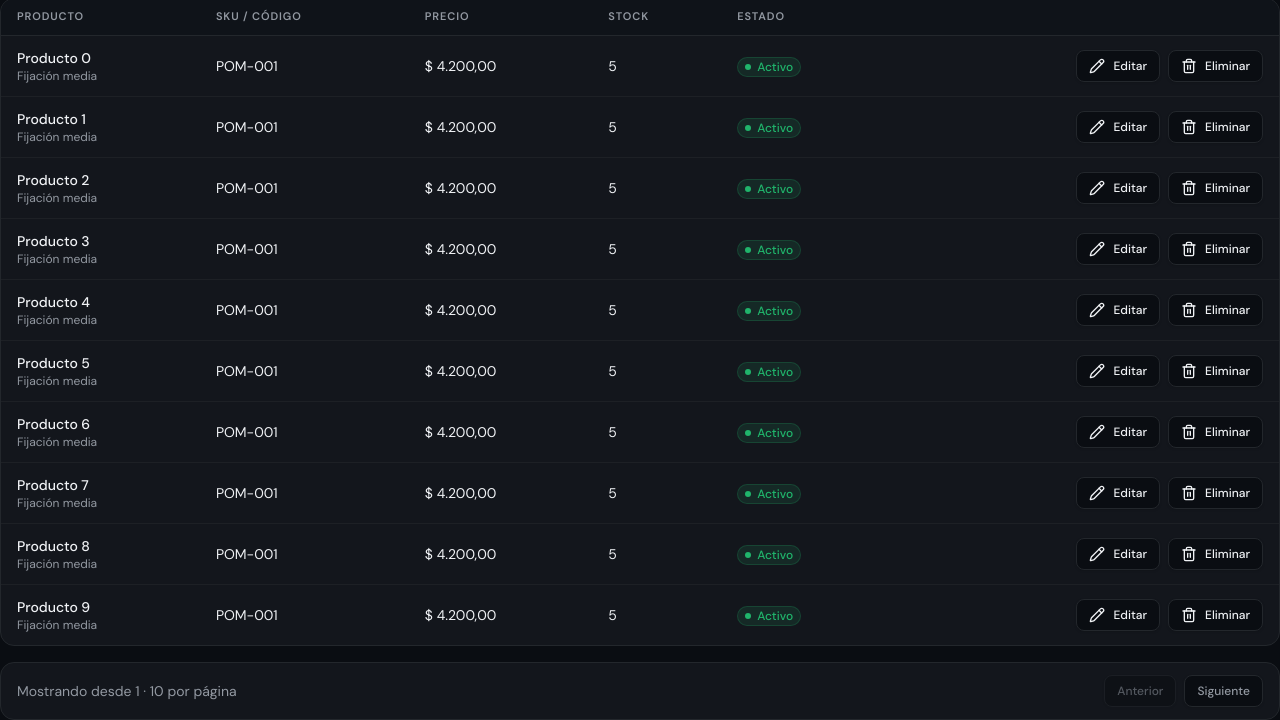
ProductsCrudPage › requests the next offset when clicking Next
This screenshot has width=1280, height=720.
(page scrolled)
Check: the text "Producto 0" is shown, box [17,49,91,67]
Click the button "Siguiente": coordinates (1224, 691) [1184,675,1263,707]
(page scrolled)
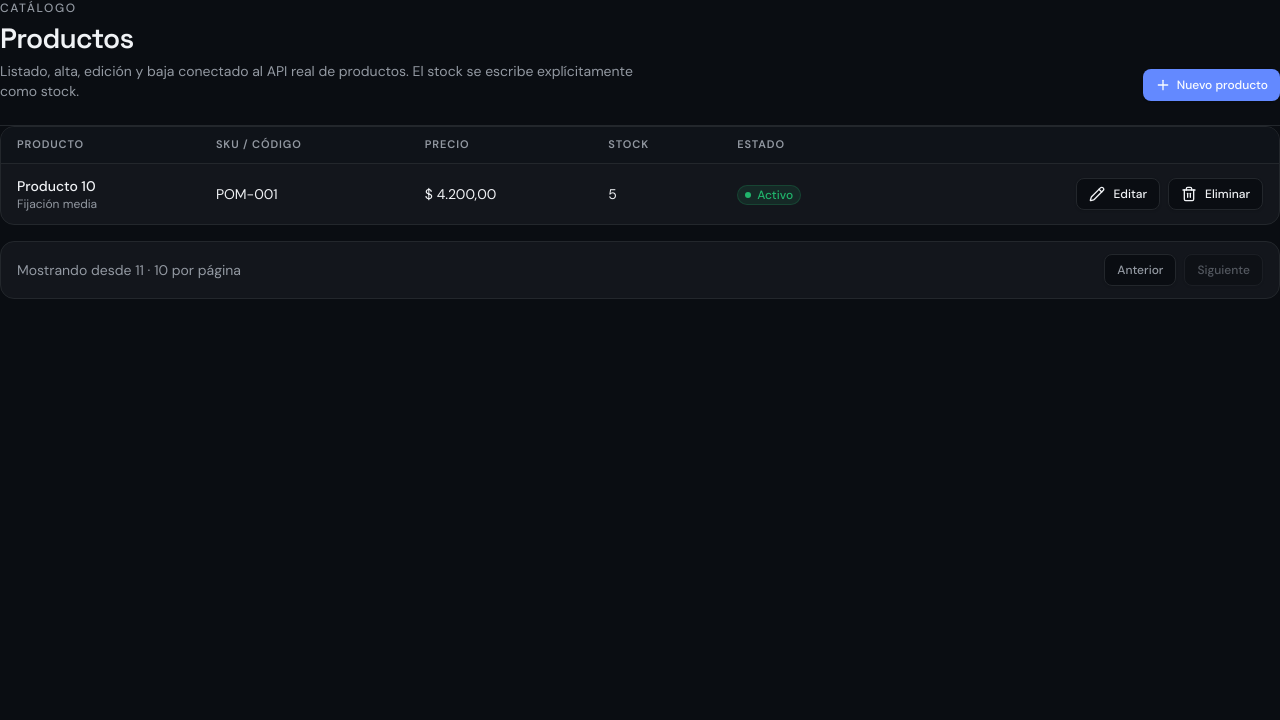
Check: the text "Producto 10" is shown, box [17,177,96,195]
